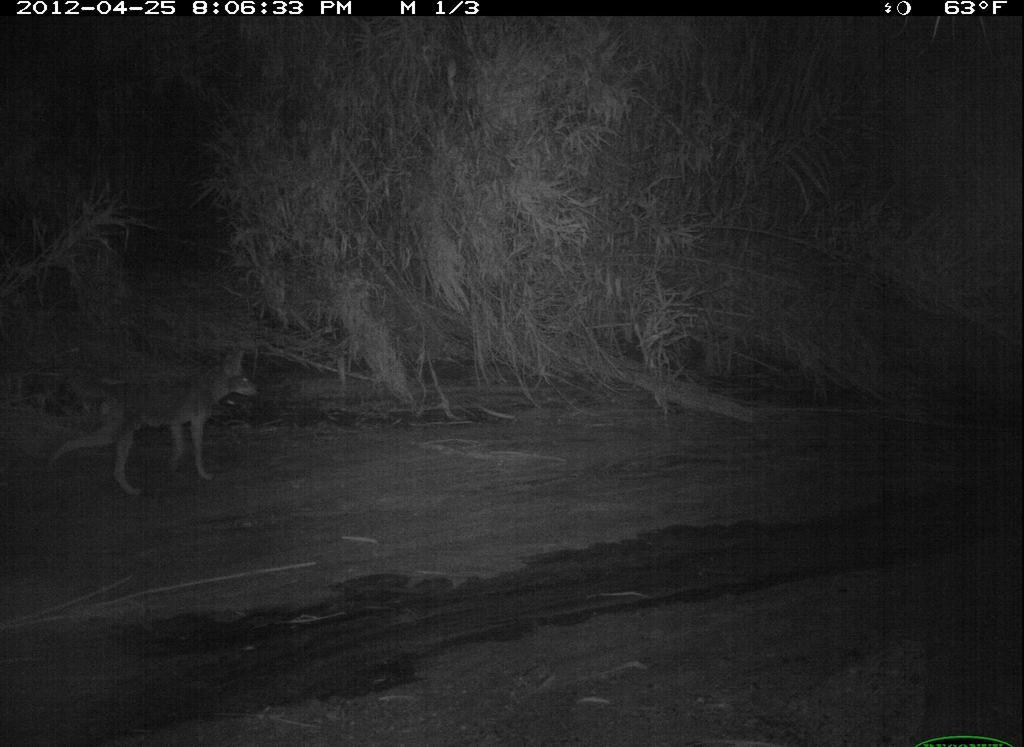coyote: (35, 336, 276, 505)
